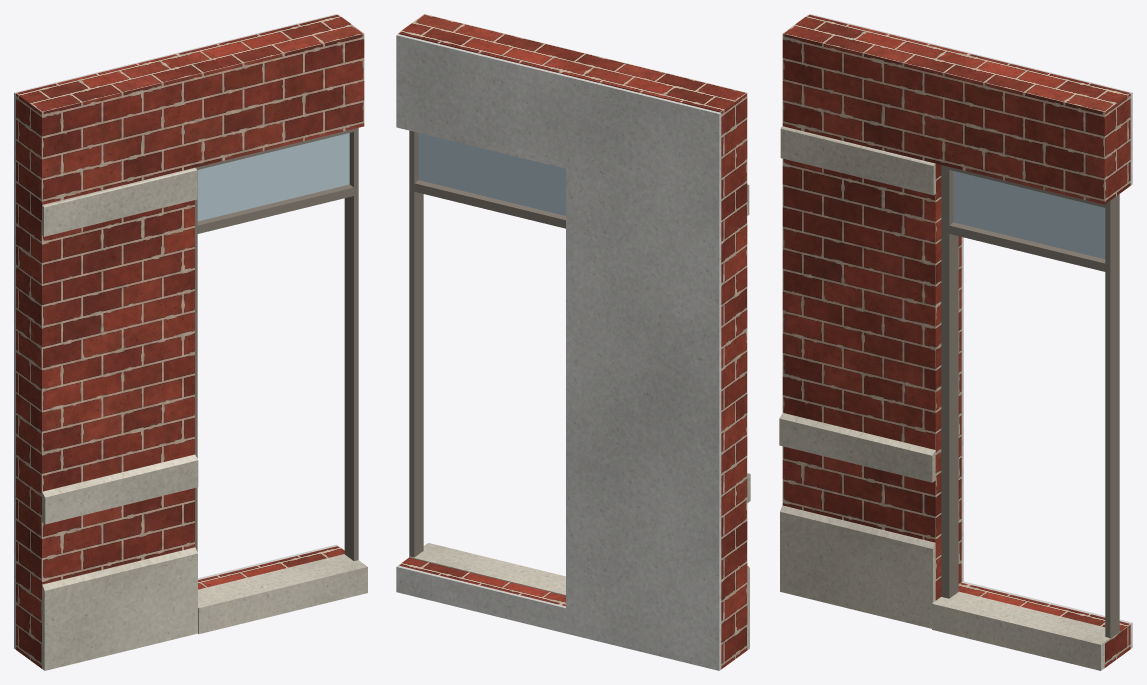
The model's file is w_g_entry.glb.
The picture shows the model from 3 angles, left to right: view 1: azimuth 30°, elevation 25°; view 2: azimuth 150°, elevation 25°; view 3: azimuth 330°, elevation 25°; orthographic projection.
Parts seen in each view (by area): view 1: w_g_entry_brick, w_g_entry_precast, w_g_entry_alu, w_g_entry_glass, w_g_entry_plaster; view 2: w_g_entry_plaster, w_g_entry_brick, w_g_entry_alu, w_g_entry_glass, w_g_entry_precast; view 3: w_g_entry_brick, w_g_entry_precast, w_g_entry_alu, w_g_entry_glass, w_g_entry_plaster.
Part boxes in pixels (box(x1,y1,x2,y2)): w_g_entry_brick: box(16, 14, 364, 668); w_g_entry_precast: box(42, 167, 367, 670); w_g_entry_alu: box(195, 128, 358, 560); w_g_entry_glass: box(197, 133, 349, 221); w_g_entry_plaster: box(14, 14, 337, 649); w_g_entry_plaster: box(396, 34, 721, 670); w_g_entry_brick: box(398, 14, 747, 669); w_g_entry_alu: box(409, 130, 565, 557); w_g_entry_glass: box(418, 133, 565, 215); w_g_entry_precast: box(409, 184, 750, 650); w_g_entry_brick: box(782, 14, 1130, 667); w_g_entry_precast: box(779, 126, 1119, 670); w_g_entry_alu: box(941, 165, 1119, 638); w_g_entry_glass: box(953, 171, 1105, 259); w_g_entry_plaster: box(810, 14, 1132, 648).
Size of the model in its own units: 2 by 3.3 by 0.34.
Materials: 5 (3 with a texture image).
